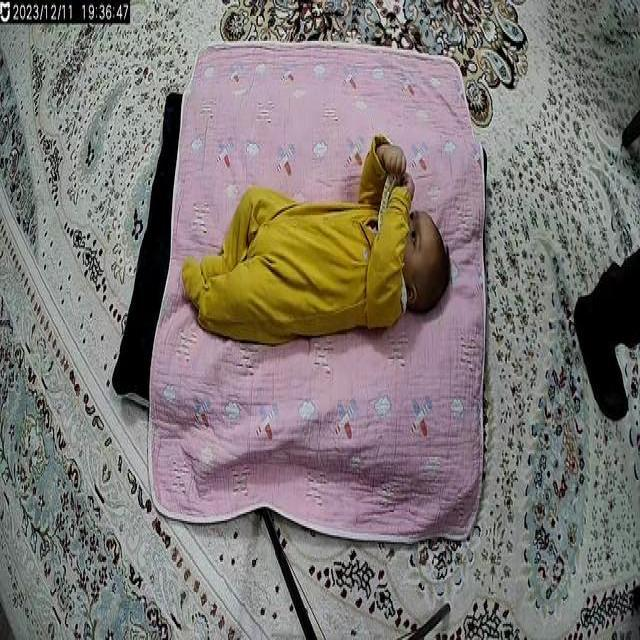baby: (178, 134, 454, 352)
